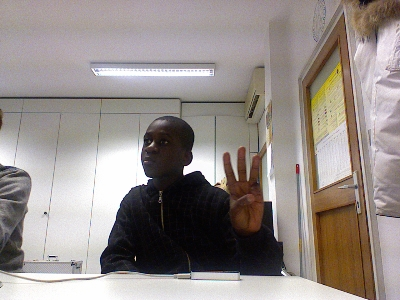三分: (221, 143, 263, 233)
